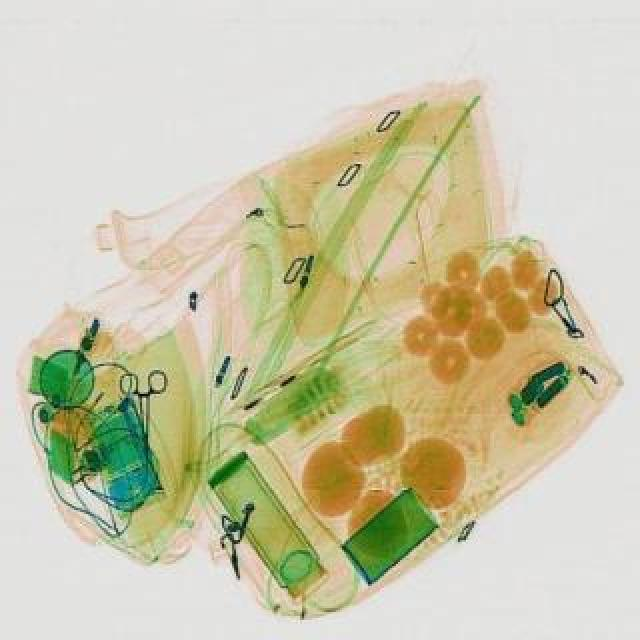pliers: (118, 368, 170, 460)
